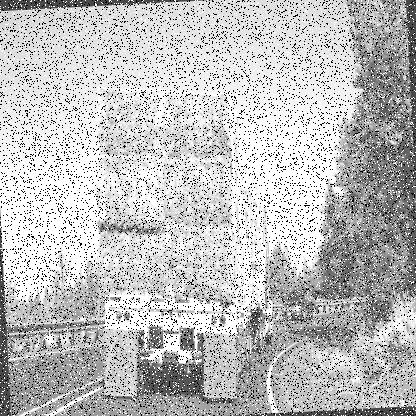Car: (282, 290, 330, 327)
